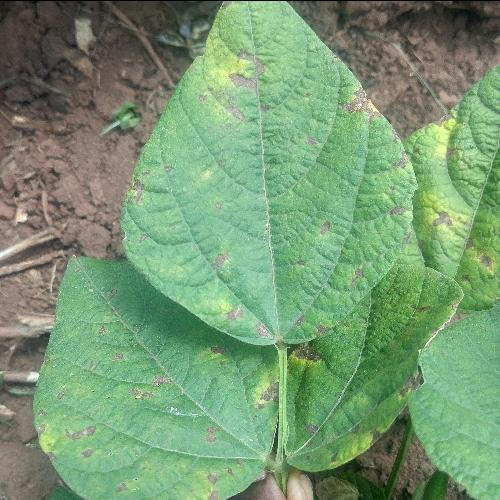hawar: (198, 42, 262, 152), (118, 136, 165, 258), (380, 151, 420, 236), (333, 70, 383, 138), (65, 407, 108, 450), (208, 296, 266, 326), (346, 256, 370, 293), (204, 236, 232, 266), (288, 304, 312, 336), (310, 217, 337, 239), (316, 316, 334, 338), (290, 254, 306, 278)
mozaik: (66, 69, 456, 479)
